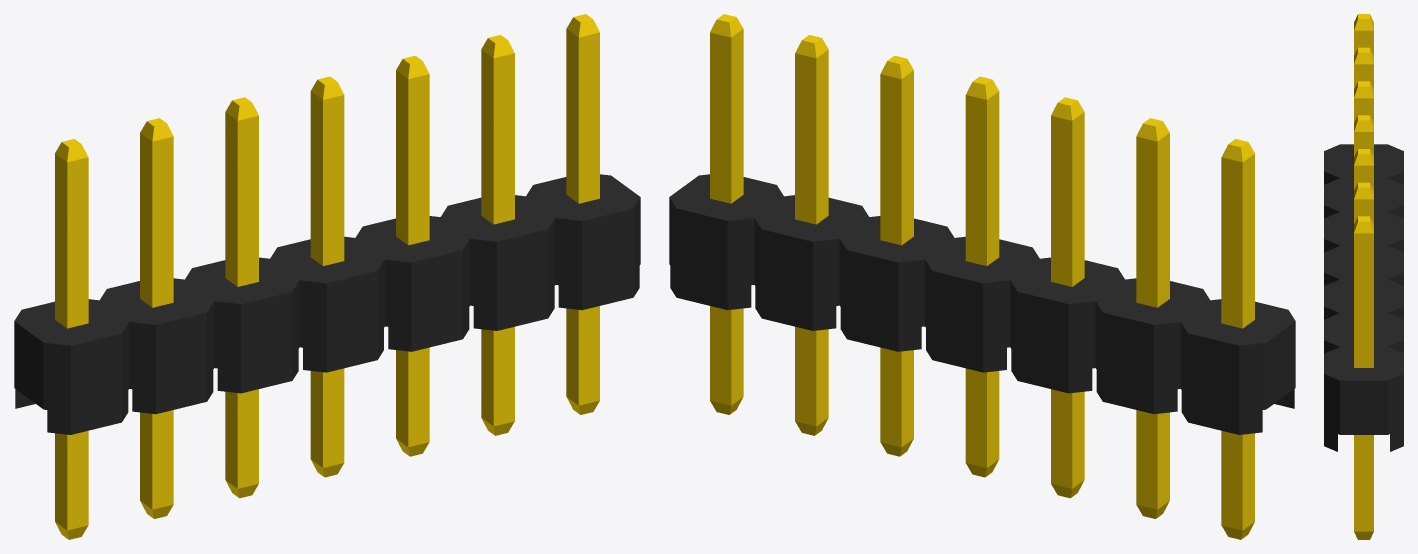
The model's file is PLS2-7.glb.
3 renders of one model, left to right at view 1: azimuth 30°, elevation 25°; view 2: azimuth 150°, elevation 25°; view 3: azimuth 270°, elevation 25°, orthographic. The views are drawn at different scales.
Visible parts, largest first — view 1: PLS2 (DS1025-01 CONNFLY); view 2: PLS2 (DS1025-01 CONNFLY); view 3: PLS2 (DS1025-01 CONNFLY).
Part boxes in pixels (left/top/right/bottom): PLS2 (DS1025-01 CONNFLY): left=14, top=14, right=640, bottom=539; PLS2 (DS1025-01 CONNFLY): left=669, top=14, right=1295, bottom=539; PLS2 (DS1025-01 CONNFLY): left=1324, top=14, right=1403, bottom=539.
Size of the model in its own units: 0.014 by 0.0088 by 0.002.
